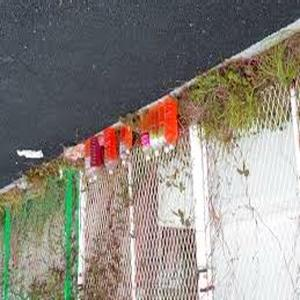Plastic: (102, 127, 118, 177)
